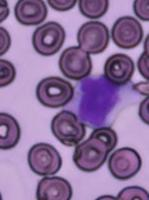M: (64, 73, 132, 129)
